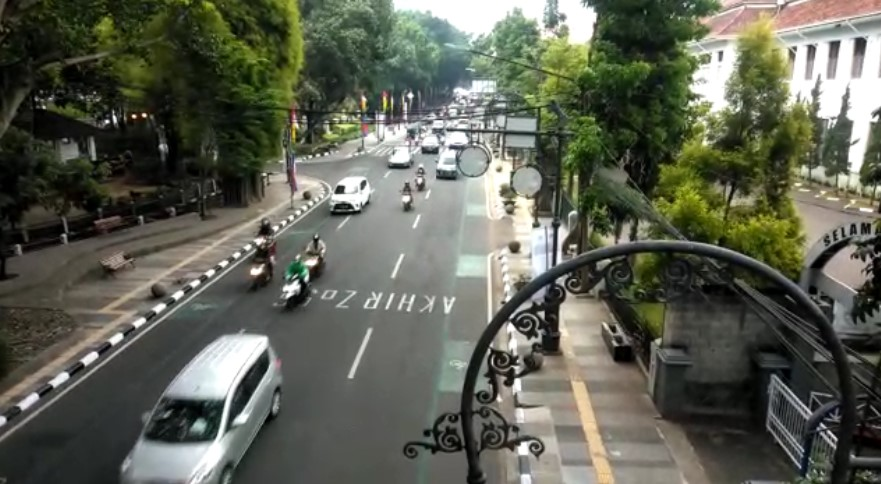mobil: (328, 172, 375, 218)
motor: (281, 255, 309, 306), (303, 235, 333, 279), (244, 243, 272, 289), (400, 183, 417, 212), (414, 166, 429, 189)
